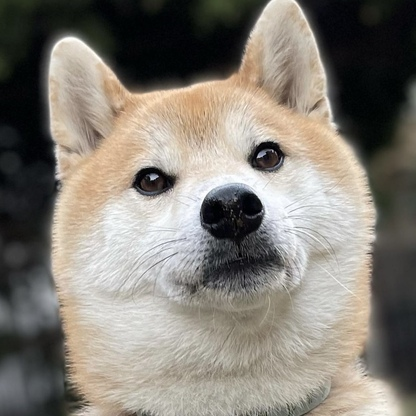shiba: (33, 1, 409, 416)
